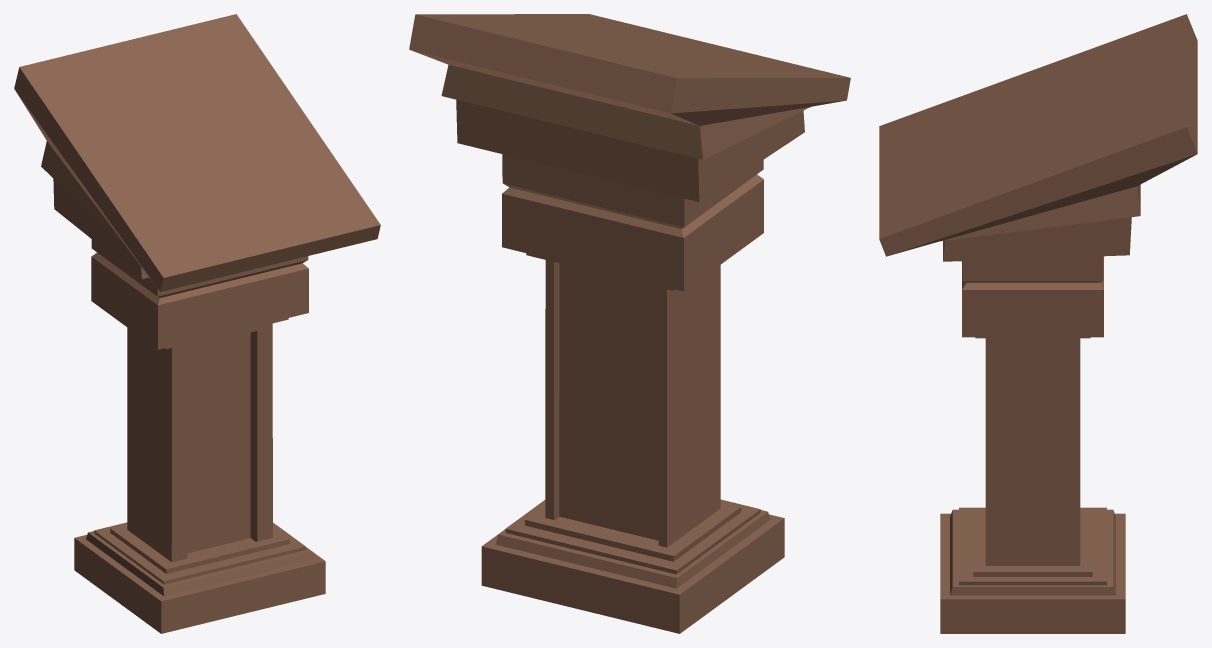
The model's file is pedestal.fbx.
3 renders of one model, left to right at view 1: azimuth 30°, elevation 25°; view 2: azimuth 150°, elevation 25°; view 3: azimuth 270°, elevation 25°, orthographic. The views are drawn at different scales.
Visible parts, largest first — view 1: Cube; view 2: Cube; view 3: Cube.
Boxes of the visible parts, <box> form: Cube: <box>14,14,380,633</box>; Cube: <box>409,14,850,633</box>; Cube: <box>879,14,1197,633</box>.
Size of the model in its own units: 127 by 273 by 151.
